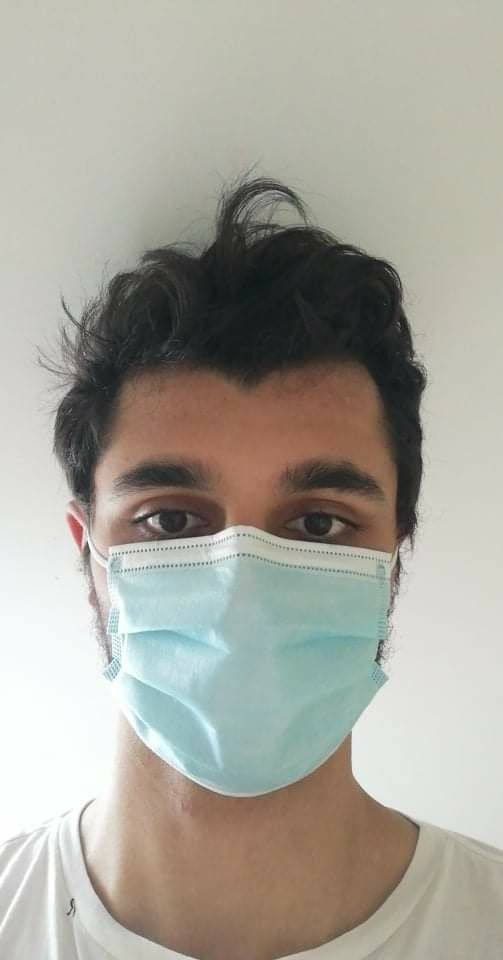with_mask: (80, 347, 405, 789)
